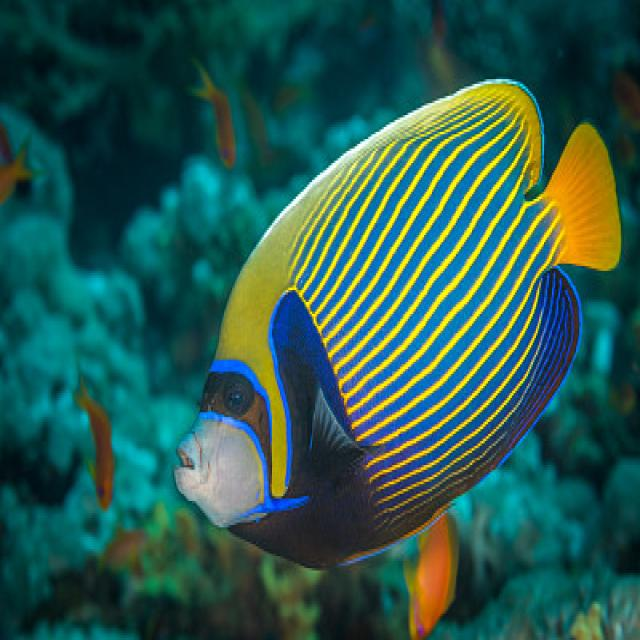AngelFish: (179, 77, 622, 640)
